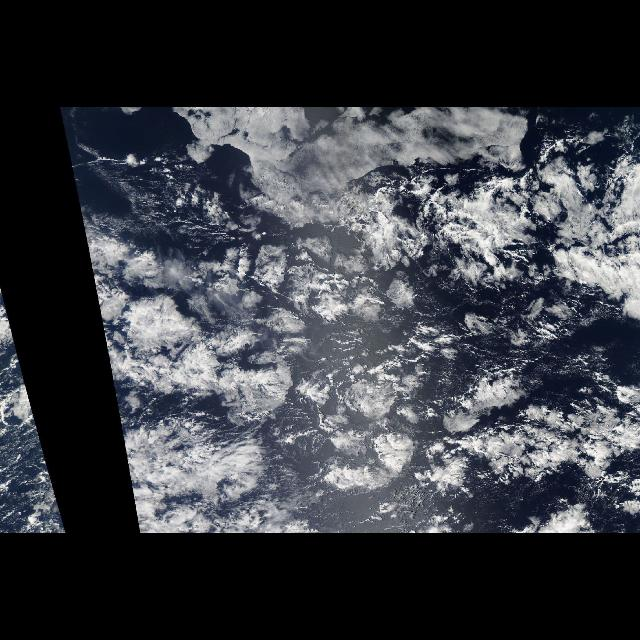Flower: (81, 212, 559, 504), (1, 286, 61, 504)
